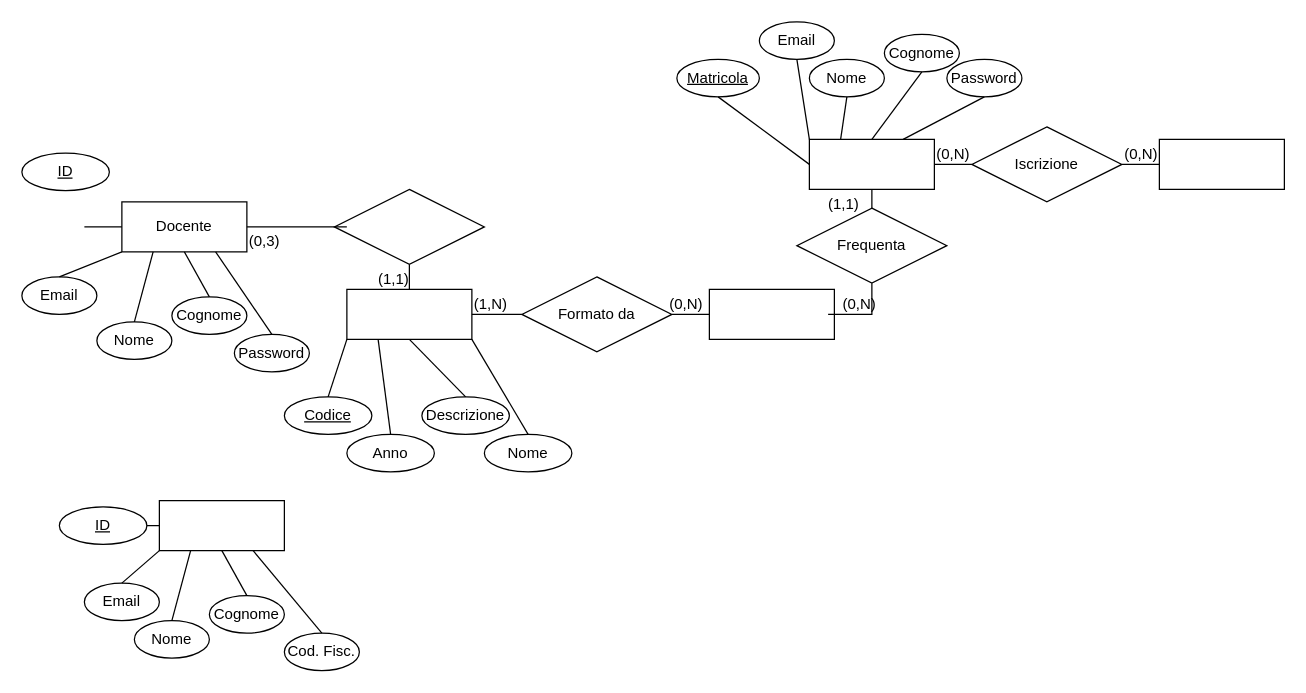
Image size: 1306x693. Some labels were removed from this diagram. Here are the shapes that lost their labels. From the top down, the box of each, then its label:
(808, 138, 934, 189): Studente
(1158, 138, 1284, 189): Esame
(333, 188, 484, 264): Insegna
(346, 288, 472, 339): Insegnamento
(708, 288, 834, 339): Corso
(158, 499, 284, 551): Segreteria
